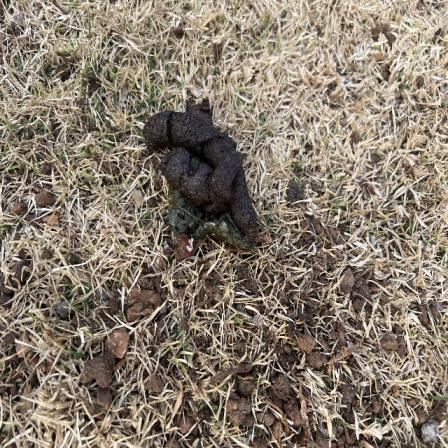dog-poop: (136, 97, 266, 249)
